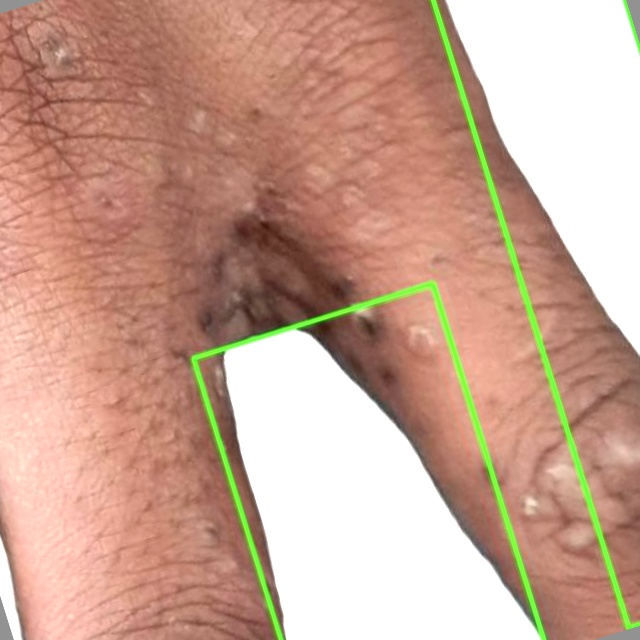Scabies: (191, 283, 542, 639)
